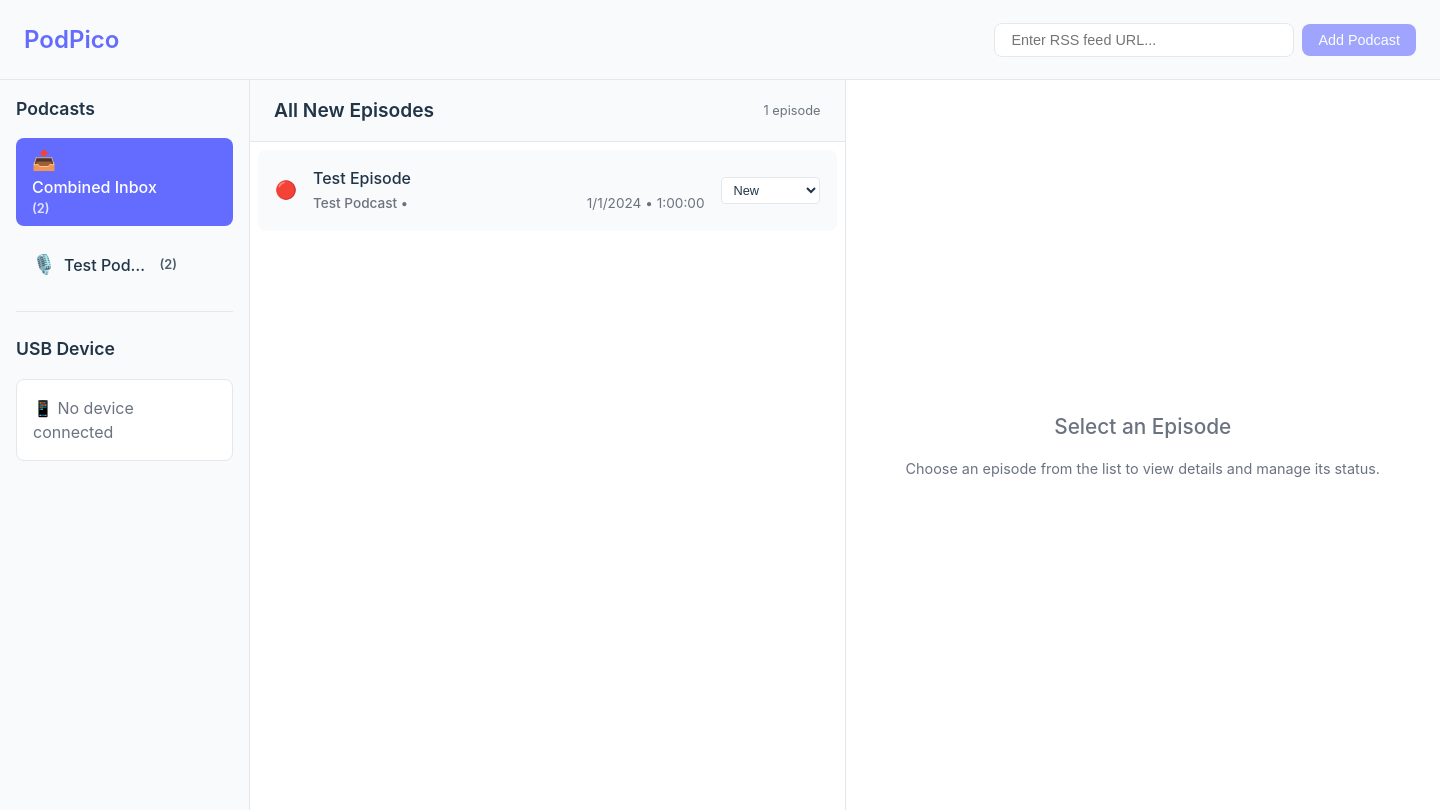
Test case: App Component › User Story #3: Download Episodes › shows download button for undownloaded episodes
Click the heading "Test Episode" at (362, 178), box [313,168,411,188]
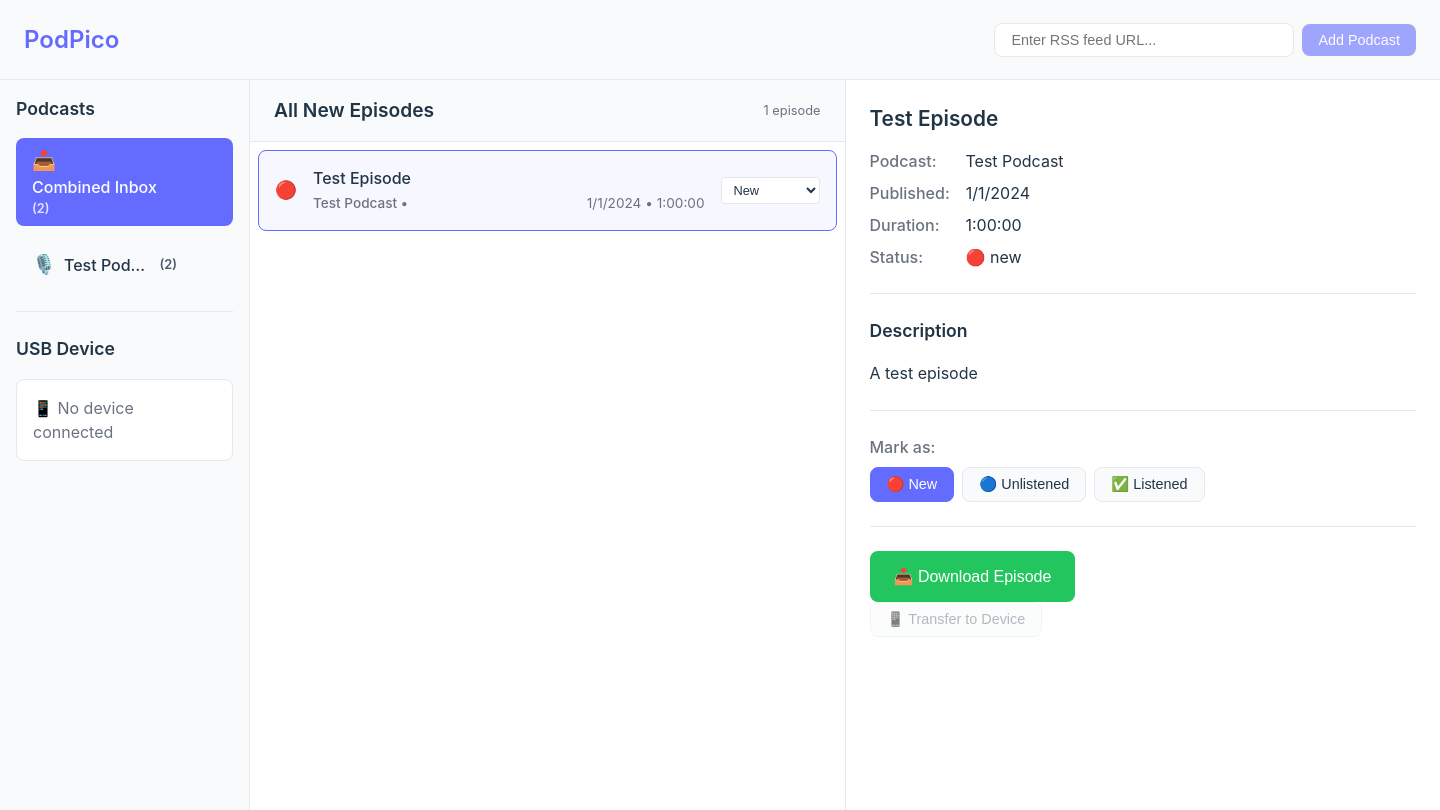
Expected: the button "📥 Download Episode" is shown, [870,551,1075,602]
